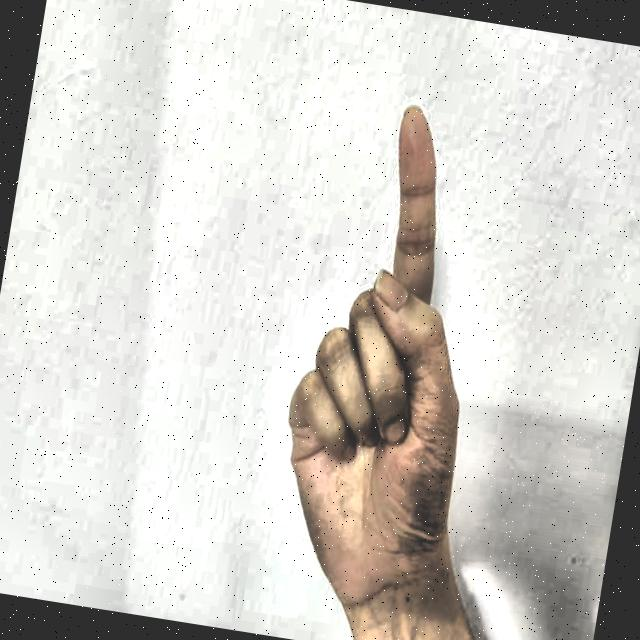U: (240, 65, 548, 618)
